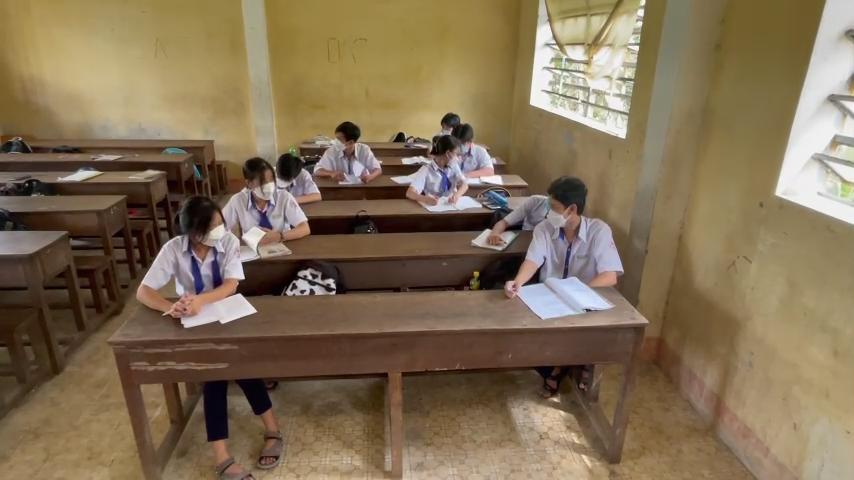Look Around: (174, 190, 227, 252), (538, 172, 590, 229), (419, 126, 464, 177), (234, 153, 279, 203), (322, 109, 367, 159)
